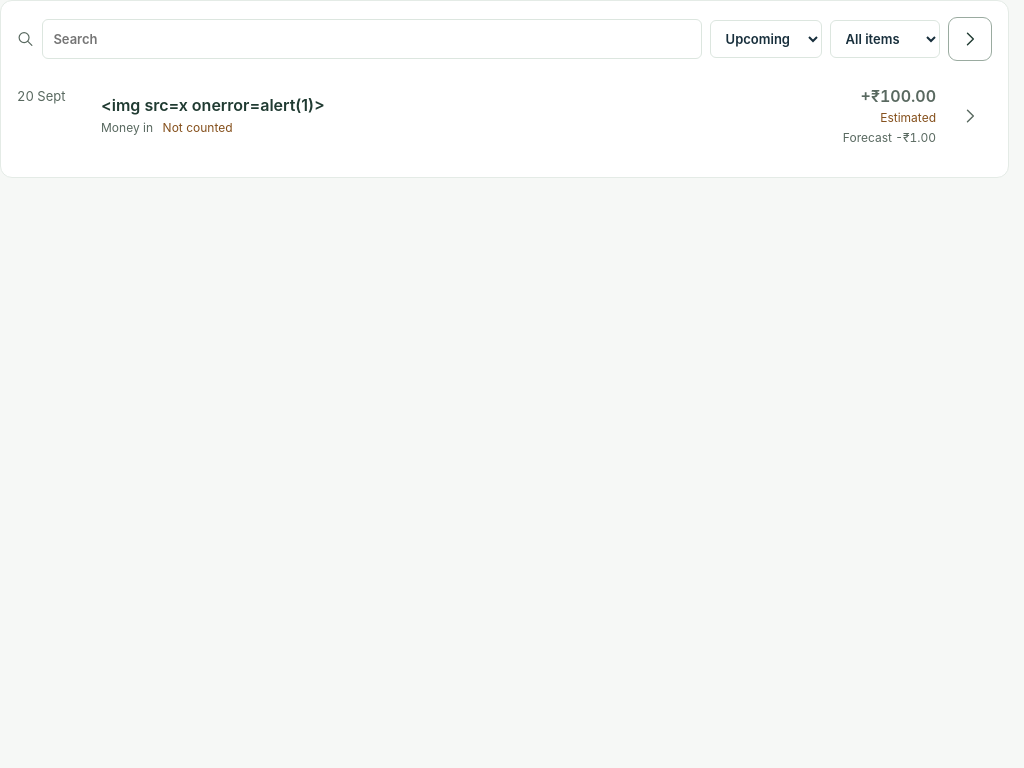
Scenario: renders labels as text, signed saved balances and excluded income in current upcoming events
Check: the text "+₹100.00" is shown, box [861,86,936,106]
Check: the text "Forecast -₹1.00" is shown, box [843,130,936,145]
Step 1. Click the button named "Details for <img src=x onerror=alert(1)> on 20 Sept 2026" → (970, 116), box [948,94,992,138]
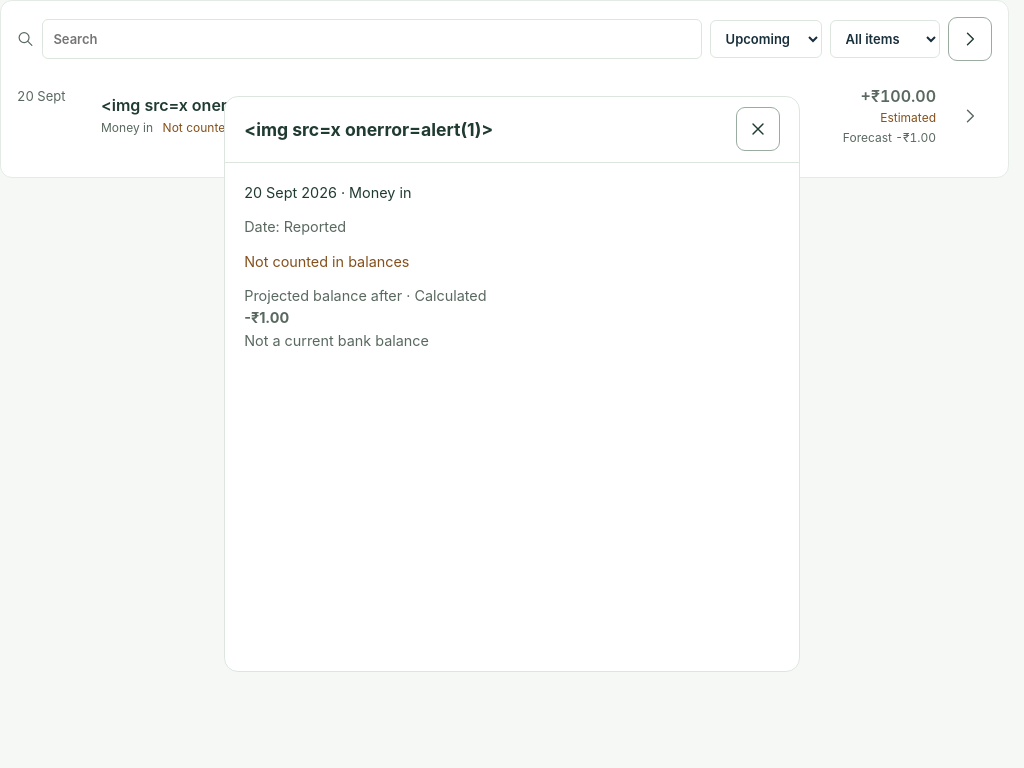
Check: the text "Not counted in balances" is shown, box [244,253,410,270]
Step 2. Click the button named "Close <img src=x onerror=alert(1)>" → (758, 129), box [736,107,780,151]
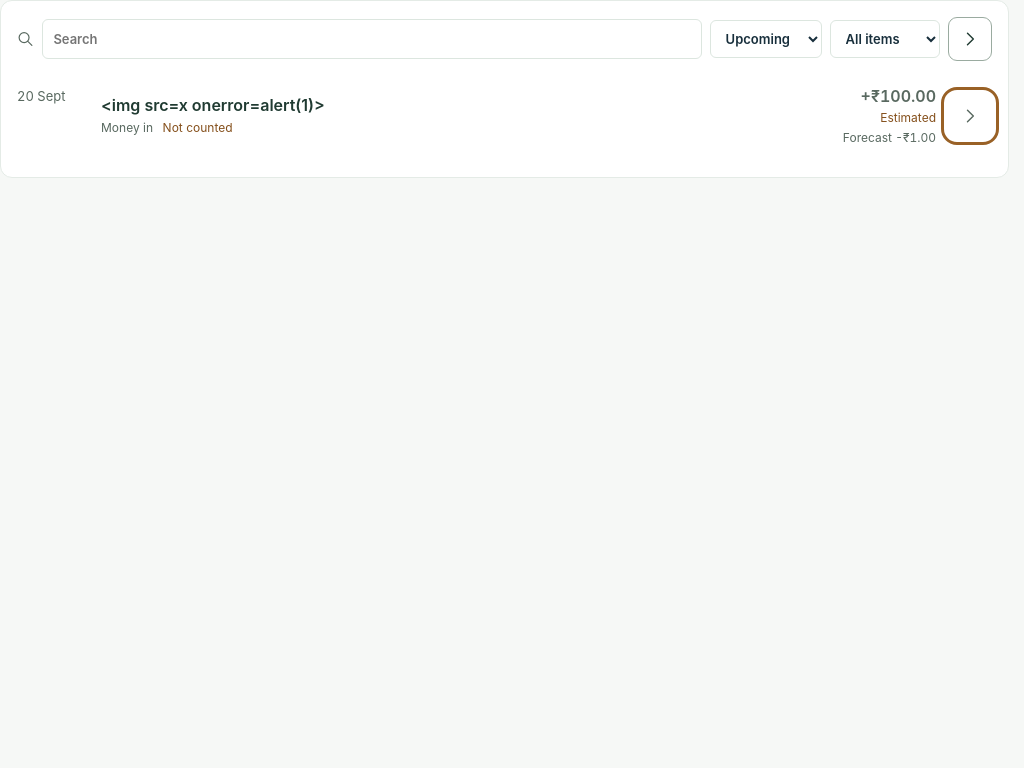
Step 3. Click the button named "About this forecast" → (970, 39), box [948,17,992,61]
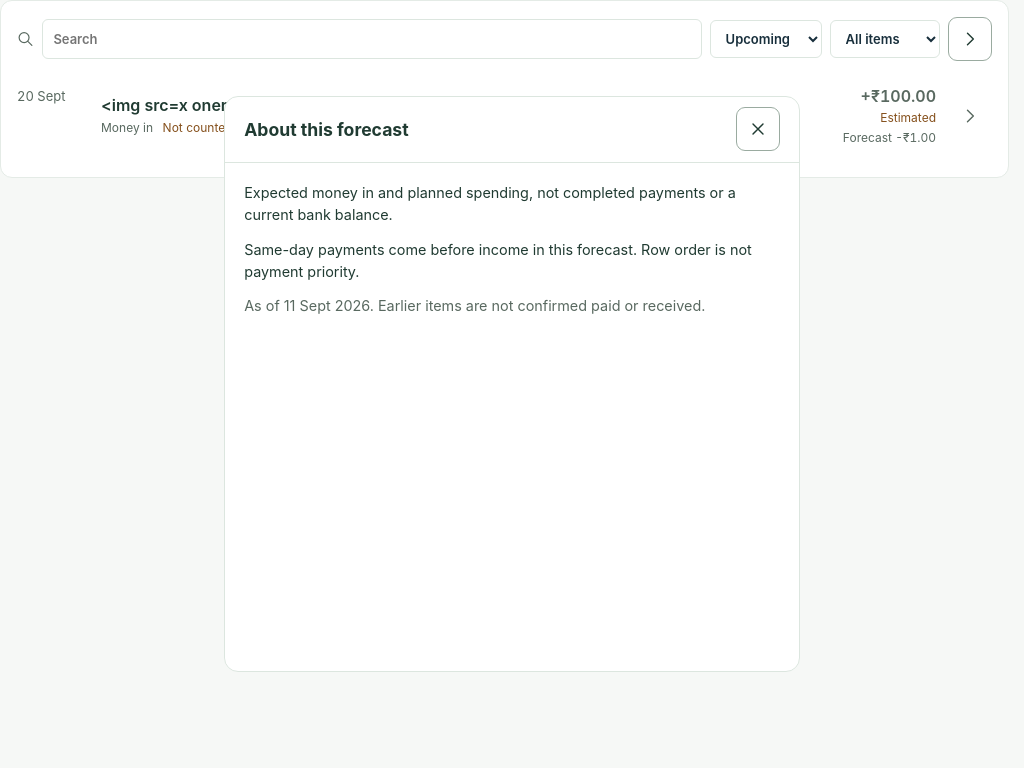
Check: the text "Same-day payments come before income in this forecast. Row order is not payment priority." is shown, box [244,241,752,280]
